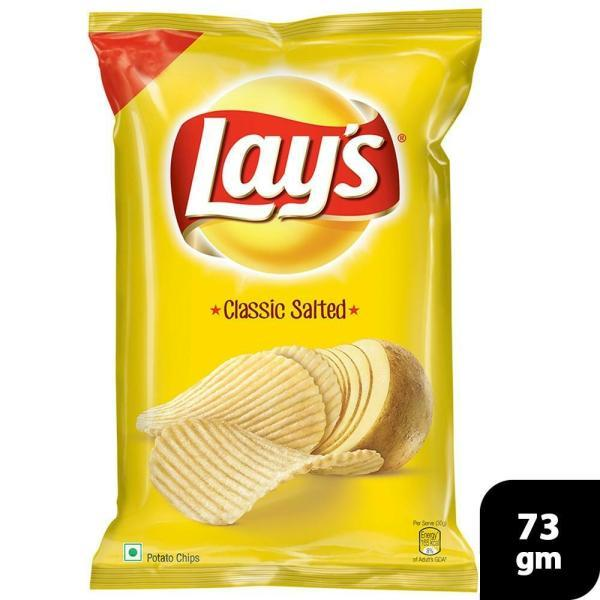Lays: (87, 9, 480, 589)
